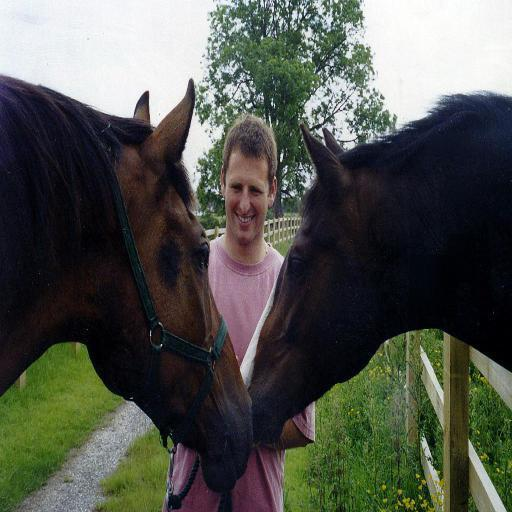horse: (0, 76, 254, 496), (248, 96, 512, 445)
